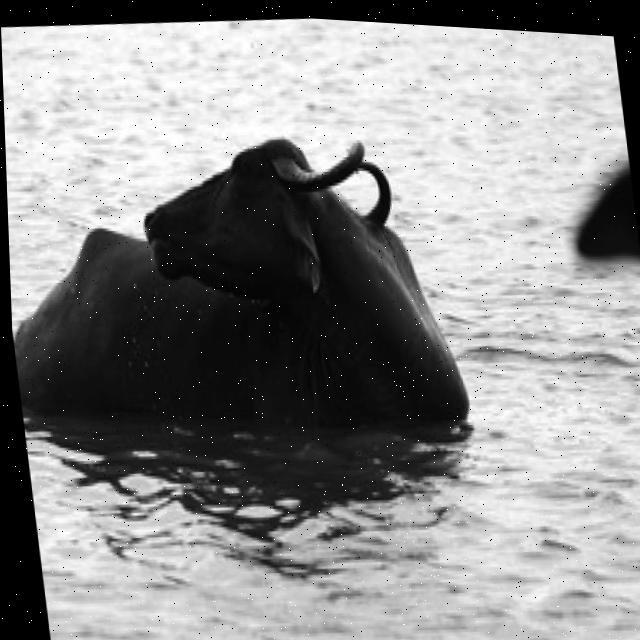Buffalo: (4, 100, 475, 471)
